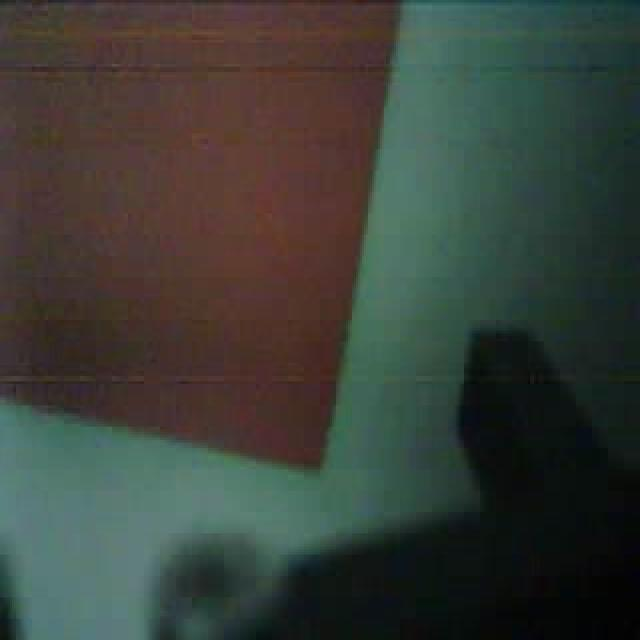red_box: (2, 5, 384, 481)
